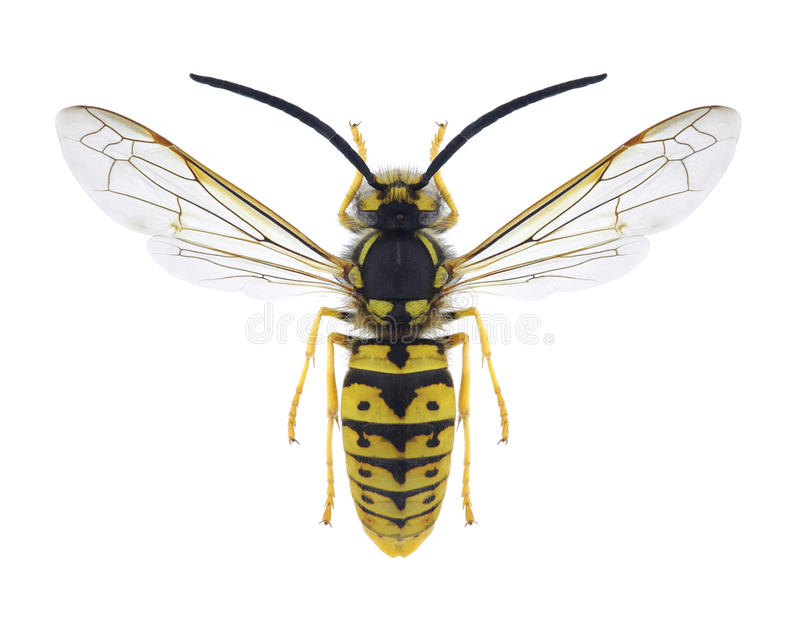chax: (34, 52, 764, 555)
